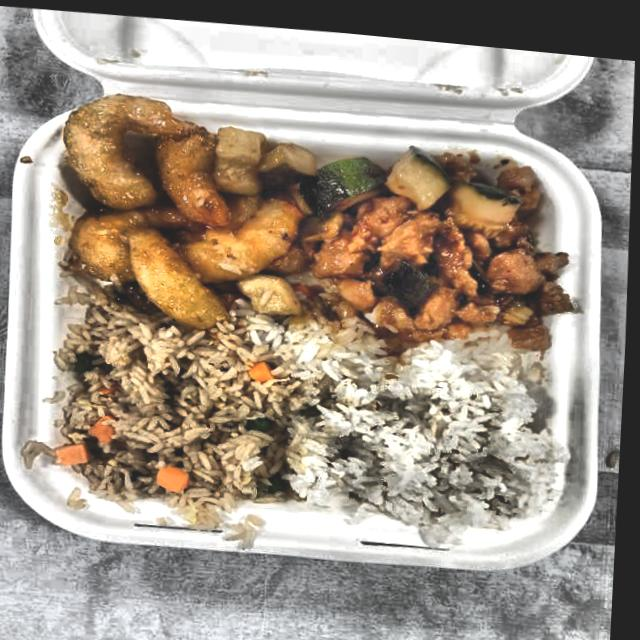Food: (39, 79, 330, 337), (294, 126, 581, 353), (41, 292, 306, 524), (294, 317, 571, 537)
